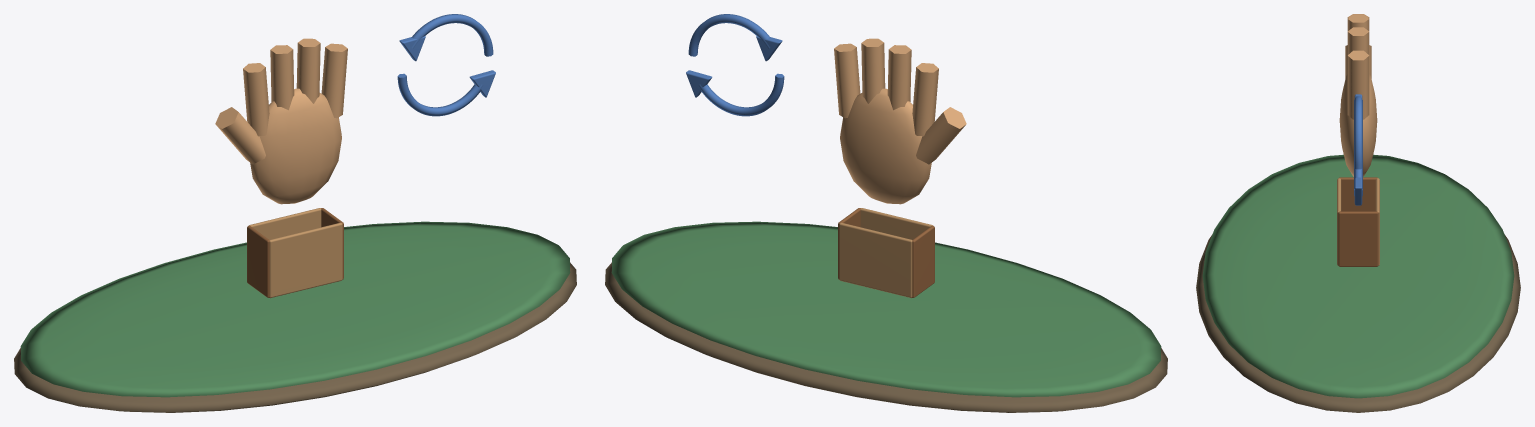
File: complete-first-again-hand.glb
The picture shows the model from 3 angles, left to right: view 1: azimuth 30°, elevation 25°; view 2: azimuth 150°, elevation 25°; view 3: azimuth 270°, elevation 25°; orthographic projection. The views are drawn at different scales.
Parts seen in each view (by area): view 1: complete-first-again-hand_surface_01, complete-first-again-hand_surface_02, complete-first-again-hand_surface_00, complete-first-again-hand_surface_04, complete-first-again-hand_surface_03, complete-first-again-hand_surface_05; view 2: complete-first-again-hand_surface_01, complete-first-again-hand_surface_02, complete-first-again-hand_surface_00, complete-first-again-hand_surface_04, complete-first-again-hand_surface_03, complete-first-again-hand_surface_05; view 3: complete-first-again-hand_surface_01, complete-first-again-hand_surface_00, complete-first-again-hand_surface_02, complete-first-again-hand_surface_05, complete-first-again-hand_surface_03, complete-first-again-hand_surface_04.
Part boxes in pixels (x1,y1,x2,y2): complete-first-again-hand_surface_01: [20, 221, 570, 397]; complete-first-again-hand_surface_02: [215, 38, 347, 204]; complete-first-again-hand_surface_00: [14, 262, 576, 412]; complete-first-again-hand_surface_04: [249, 208, 342, 297]; complete-first-again-hand_surface_03: [397, 14, 495, 116]; complete-first-again-hand_surface_05: [247, 208, 343, 298]; complete-first-again-hand_surface_01: [611, 221, 1161, 397]; complete-first-again-hand_surface_02: [834, 38, 966, 204]; complete-first-again-hand_surface_00: [605, 262, 1167, 412]; complete-first-again-hand_surface_04: [839, 208, 932, 297]; complete-first-again-hand_surface_03: [686, 14, 784, 116]; complete-first-again-hand_surface_05: [838, 208, 934, 298]; complete-first-again-hand_surface_01: [1202, 154, 1514, 398]; complete-first-again-hand_surface_00: [1196, 234, 1520, 412]; complete-first-again-hand_surface_02: [1339, 14, 1377, 176]; complete-first-again-hand_surface_05: [1338, 177, 1378, 266]; complete-first-again-hand_surface_03: [1354, 94, 1362, 205]; complete-first-again-hand_surface_04: [1337, 178, 1379, 265].
Bounding box in the file's own units: 4.56 × 2.36 × 2.5.
